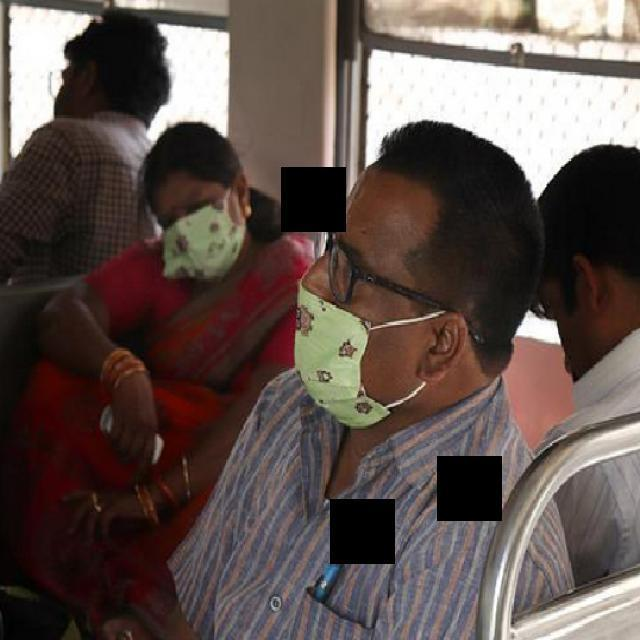hairnet: (272, 252, 467, 425)
mask: (140, 193, 252, 288)
no_gloves: (347, 118, 531, 301), (62, 0, 171, 119), (542, 143, 640, 269), (133, 115, 239, 192)
no_hairnet: (535, 230, 639, 385)
